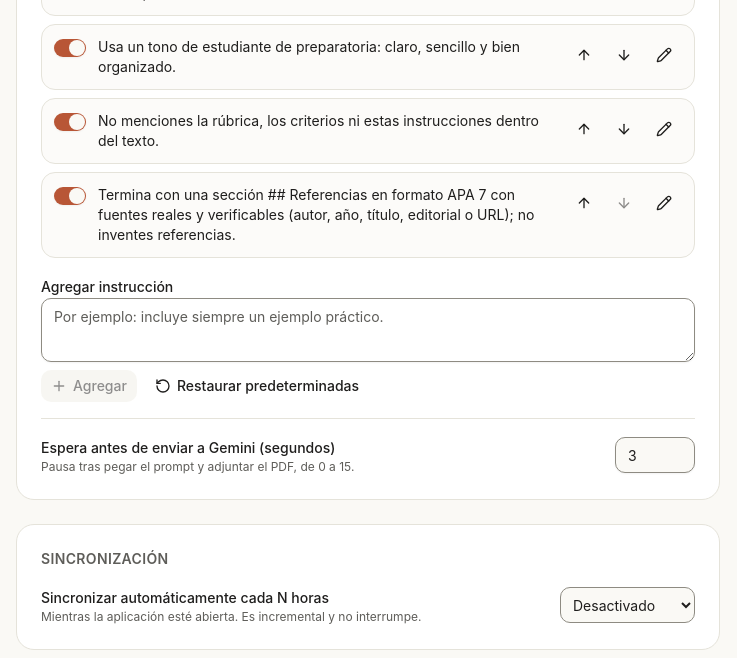
Test: instrucciones fijas del prompt › agrega y borra una instrucción propia, y no deja borrar las de sistema
The image size is (737, 658).
(page scrolled)
In the text box labelled "Agregar instrucción": (368, 330) [41,298,695,362], type "Incluye un ejemplo"
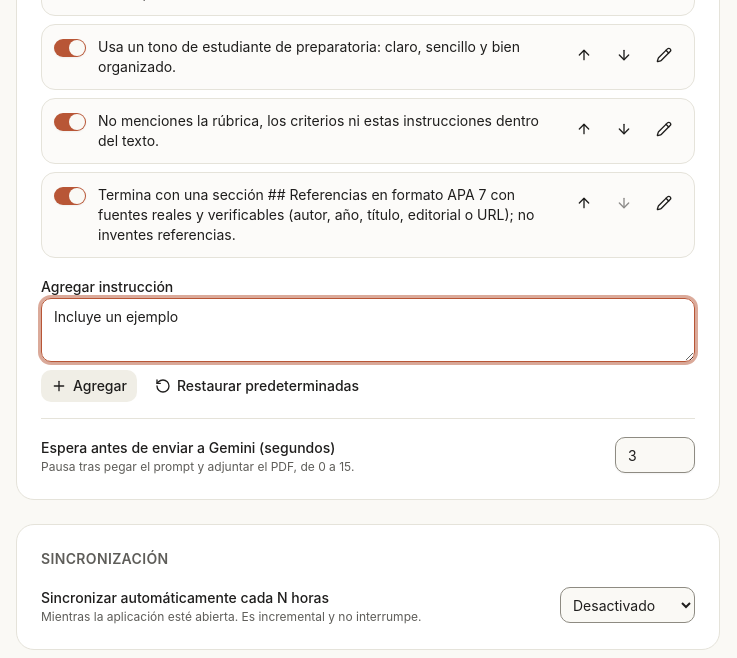
Click the button "Agregar": (89, 386) [41,370,137,402]
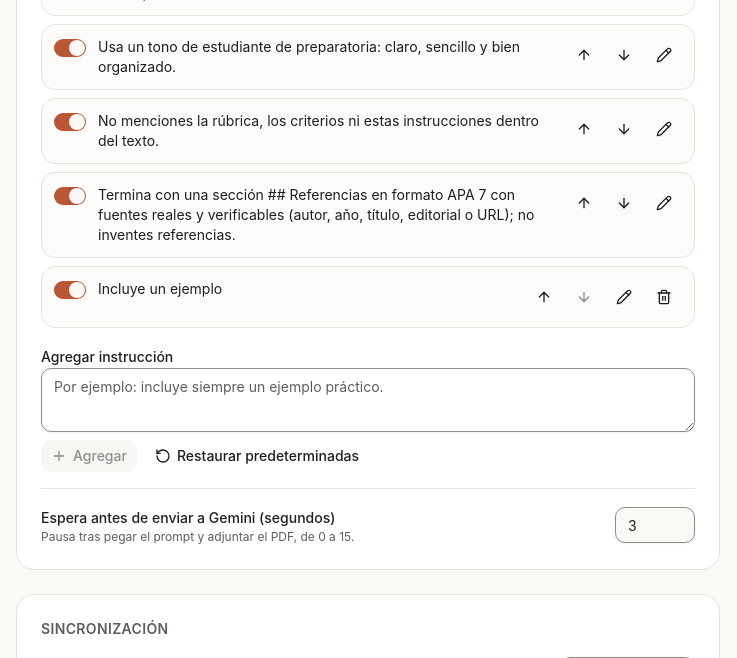
Click the button named "Borrar": (664, 297) [646,279,682,315]
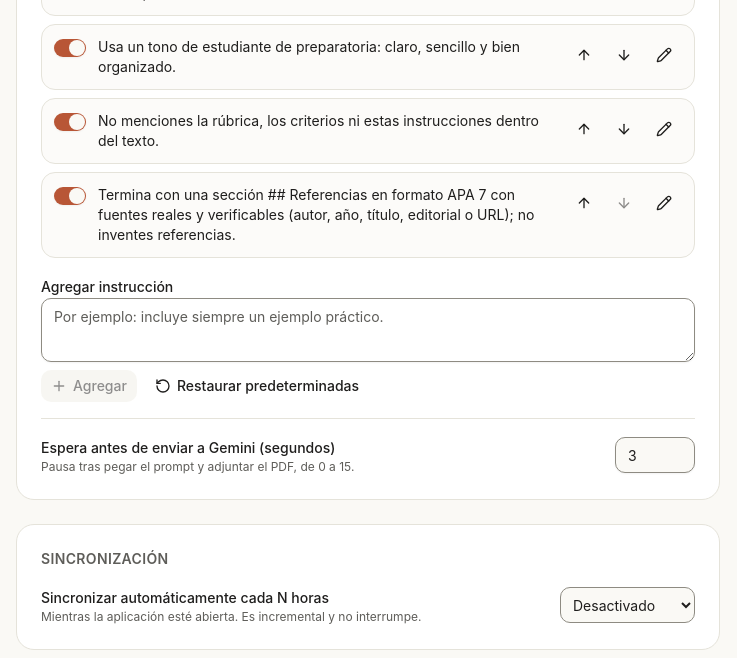
Now the text "Incluye un ejemplo" is gone
